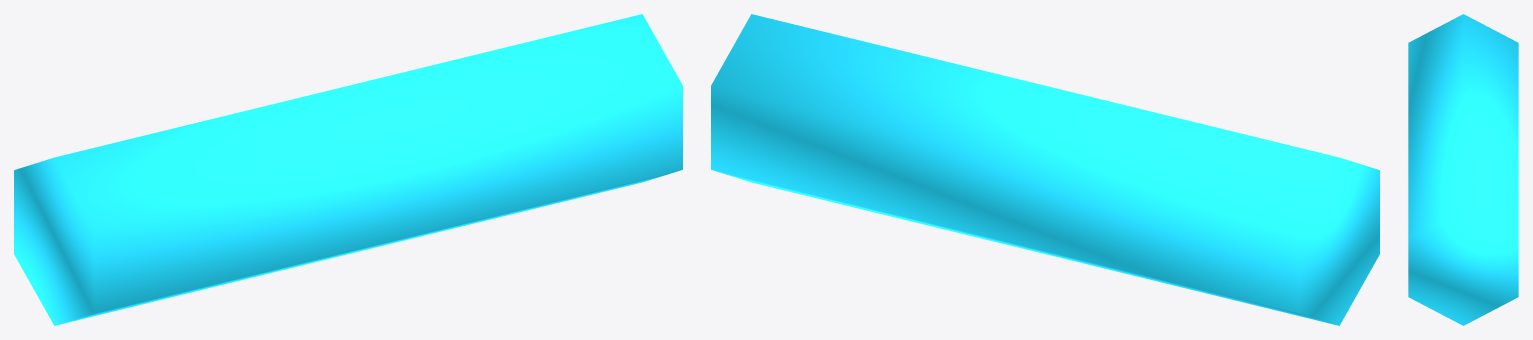
The model's file is crystal_beam.glb.
3 views of the same model, side by side, from view 1: azimuth 30°, elevation 25°; view 2: azimuth 150°, elevation 25°; view 3: azimuth 270°, elevation 25° (orthographic). The views are drawn at different scales.
Visible parts, largest first — view 1: crystal_beam; view 2: crystal_beam; view 3: crystal_beam.
Boxes of the visible parts, x1,y1,x2,y2 form: crystal_beam: [14, 14, 682, 325]; crystal_beam: [711, 14, 1379, 325]; crystal_beam: [1408, 14, 1518, 325].
Size of the model in its own units: 1.9 by 0.52 by 0.4503.
